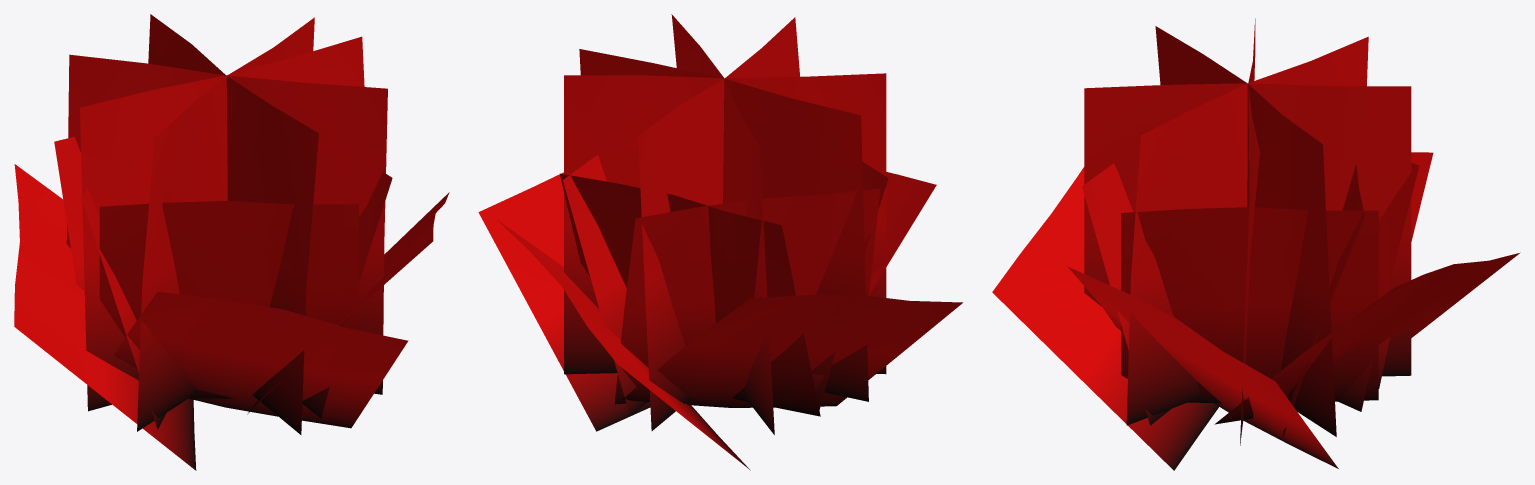
Rendered from Grass_plane24.fbx.
3 views of the same model, side by side, from view 1: azimuth 30°, elevation 25°; view 2: azimuth 150°, elevation 25°; view 3: azimuth 270°, elevation 25° (orthographic).
Visible parts, largest first — view 1: Grass_plane24; view 2: Grass_plane24; view 3: Grass_plane24.
Part boxes in pixels (x1=…): Grass_plane24: x1=14, y1=14, x2=449, y2=470; Grass_plane24: x1=478, y1=14, x2=962, y2=470; Grass_plane24: x1=992, y1=18, x2=1520, y2=470.
Size of the model in its own units: 32.67 by 23.3 by 32.35.
